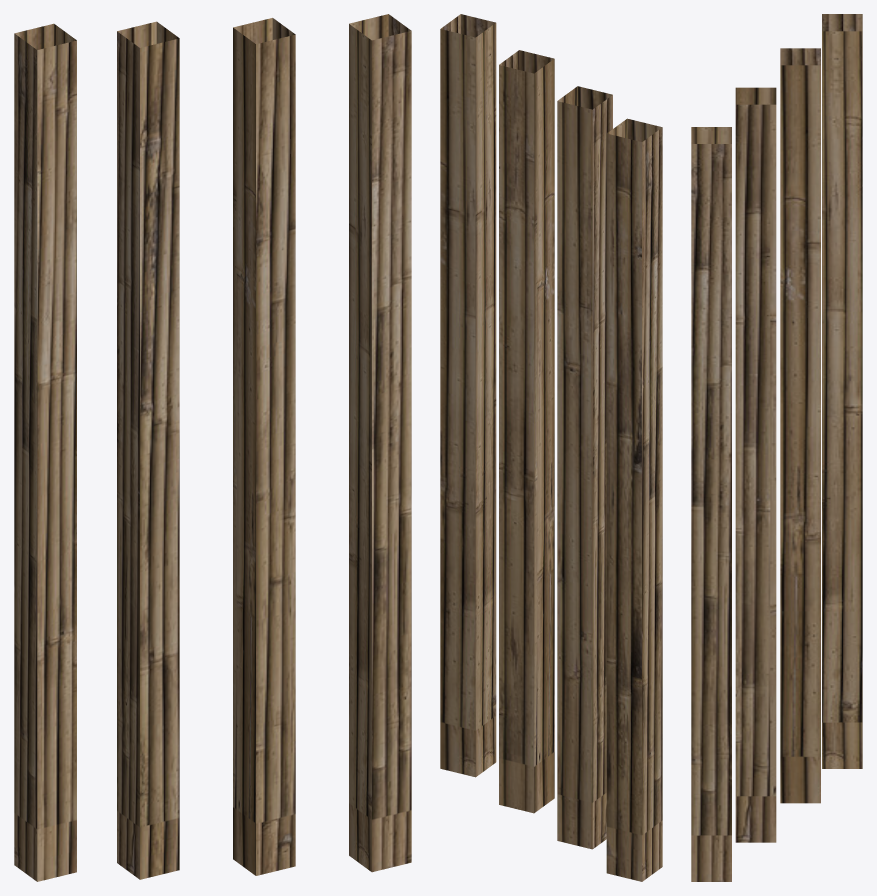
File: prison_bars.FBX
3 views of the same model, side by side, from view 1: azimuth 30°, elevation 25°; view 2: azimuth 150°, elevation 25°; view 3: azimuth 270°, elevation 25° (orthographic). The views are drawn at different scales.
Parts seen in each view (by area): view 1: prison_bars; view 2: prison_bars; view 3: prison_bars.
Boxes of the visible parts, x1,y1,x2,y2 form: prison_bars: (14,14,411,881); prison_bars: (440,14,662,881); prison_bars: (691,14,862,881).
Size of the model in its own units: 37.81 by 100 by 21.07.
